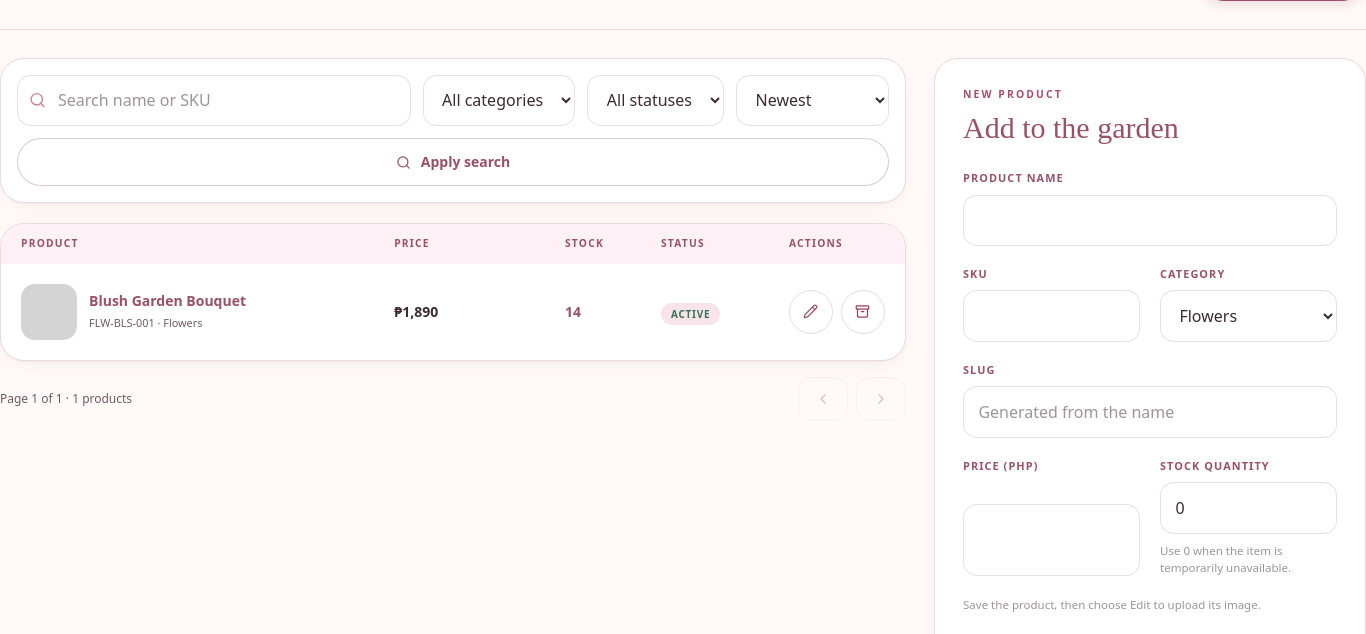
Test: admin catalog flows › updates inventory and confirms product deactivation
Expected: the text "Blush Garden Bouquet" is shown, [89,291,246,311]
Click the button named "Edit Blush Garden Bouquet".
click(811, 312)  # box [789,290,833,334]
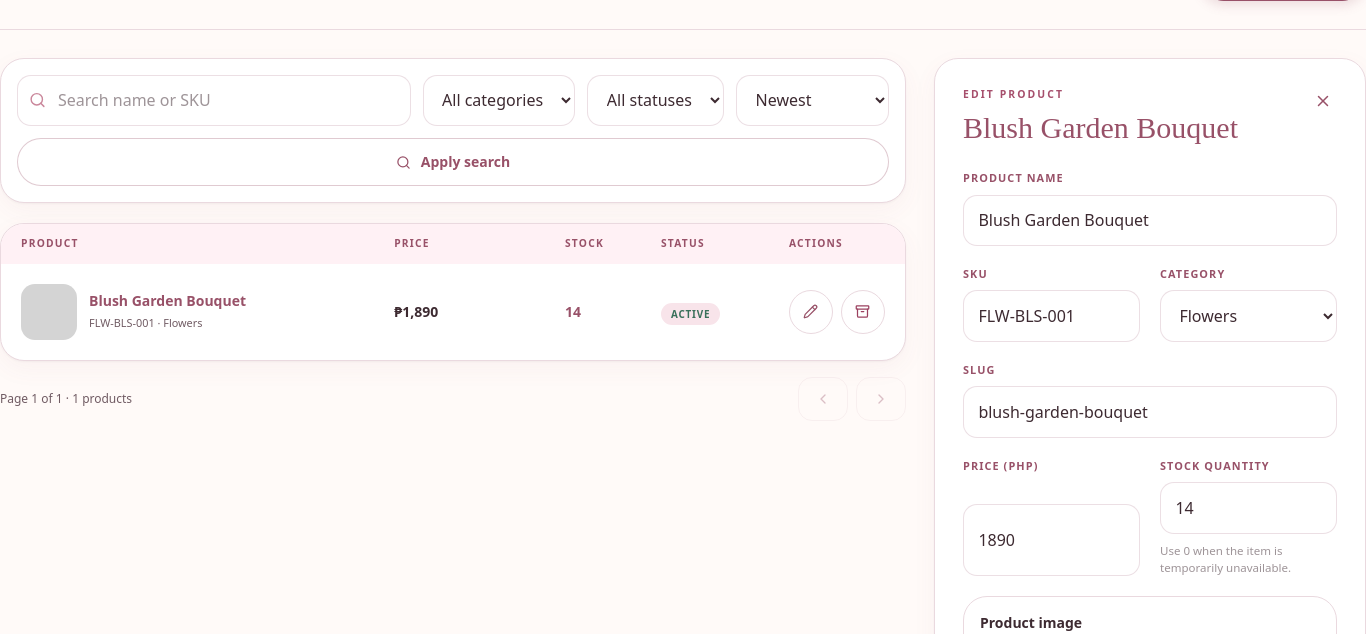
Replace the text in the number field labelled "Stock quantity" with "5" at (1248, 508), box [1160,482,1337,534]
(page scrolled)
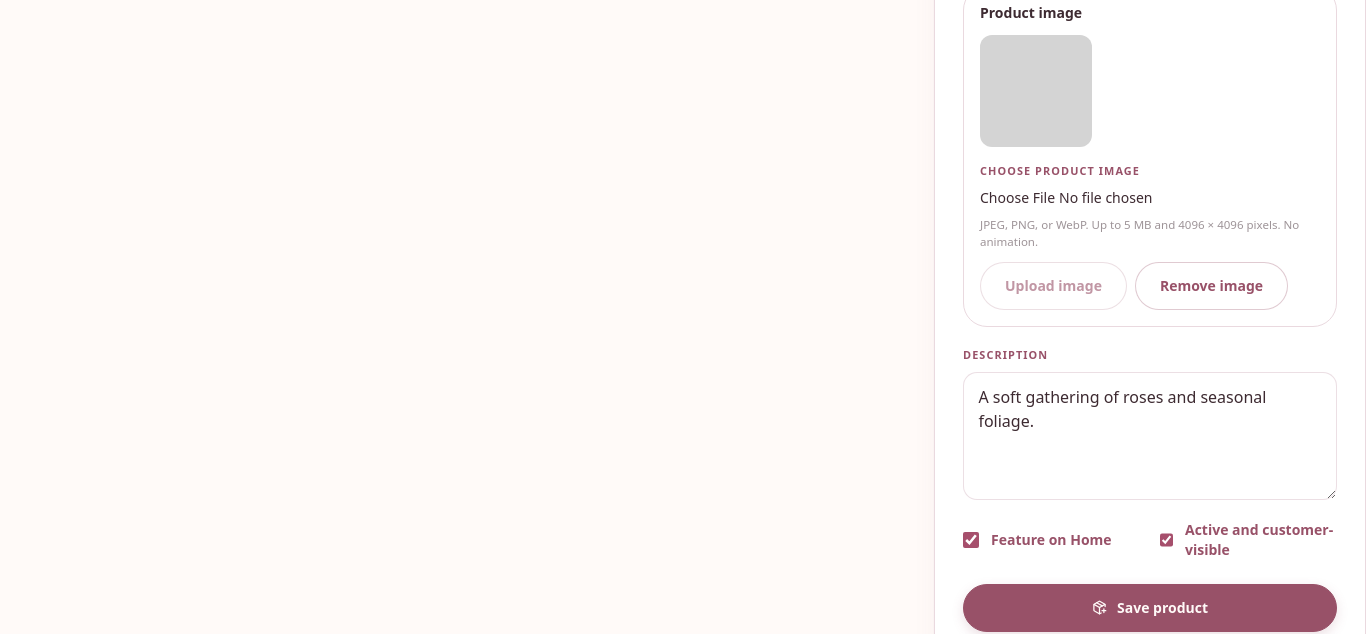
Click the button "Save product".
click(1150, 608)  # box [963,584,1337,632]
(page scrolled)
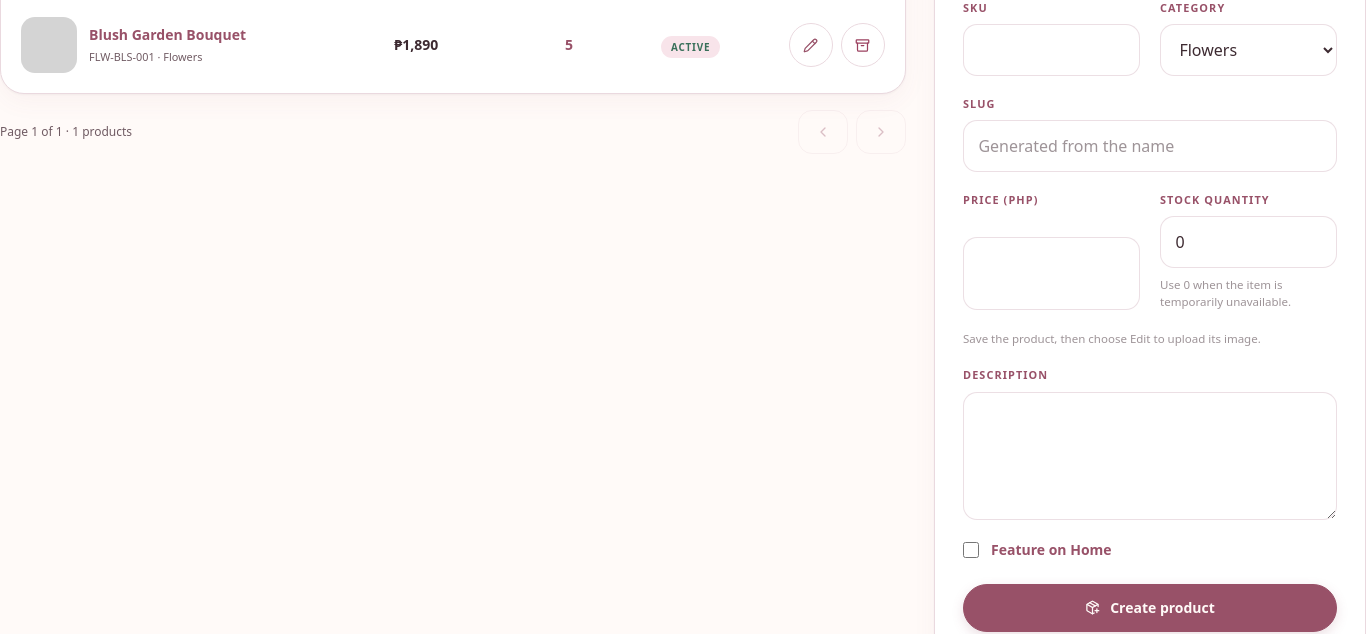
Click the button named "Deactivate Blush Garden Bouquet".
click(863, 45)  # box [841,23,885,67]
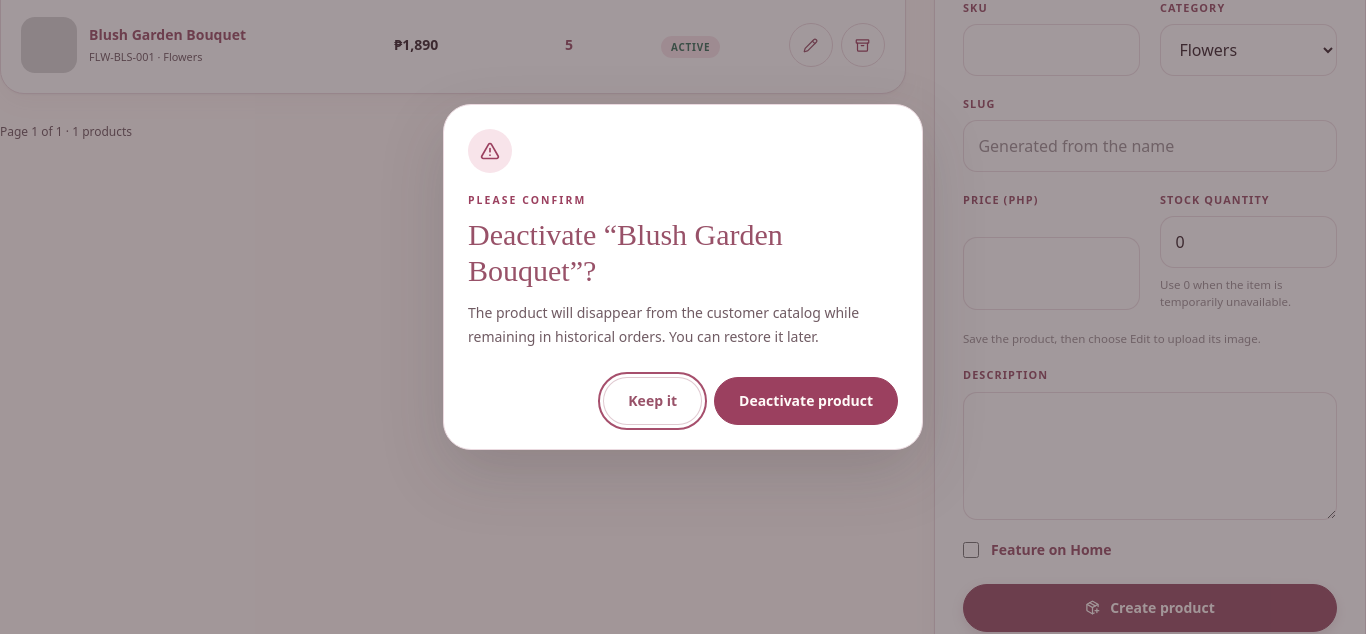
Result: the dialog "Deactivate “Blush Garden Bouquet”?" shows "historical orders" at [468,303,859,346]
Click the button "Deactivate product".
click(806, 401)  # box [714,377,898,425]
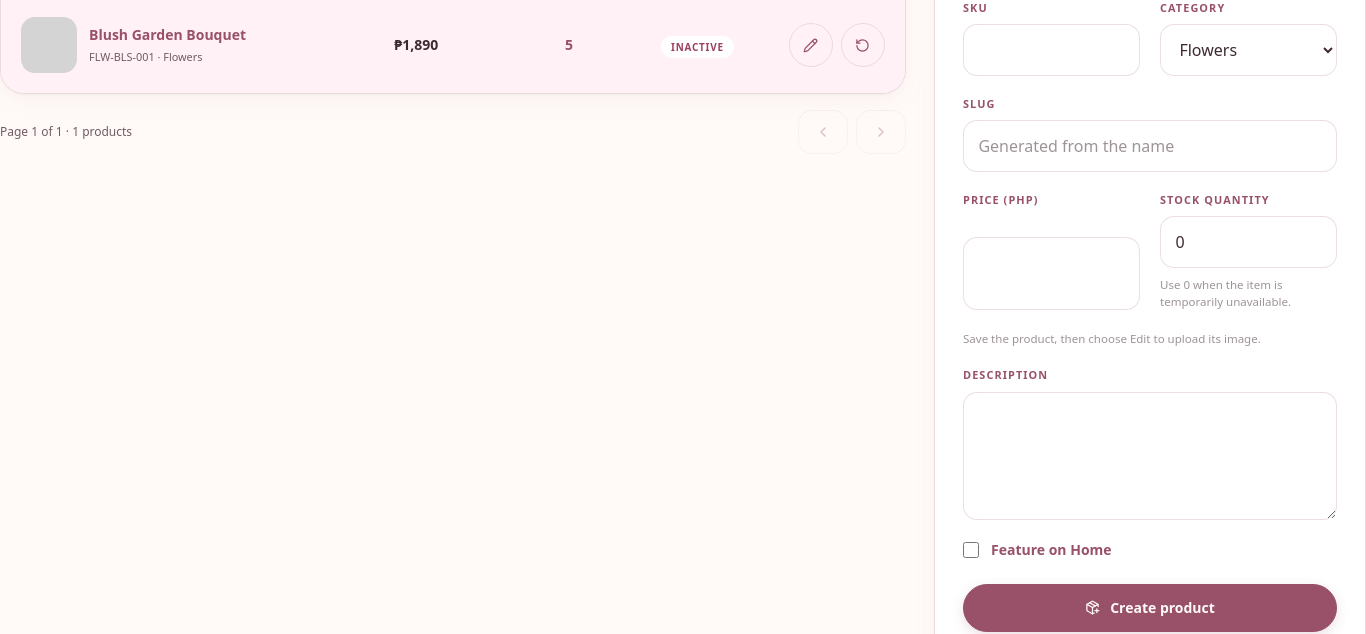
Result: the button named "Restore Blush Garden Bouquet" is shown at [841,23,885,67]
